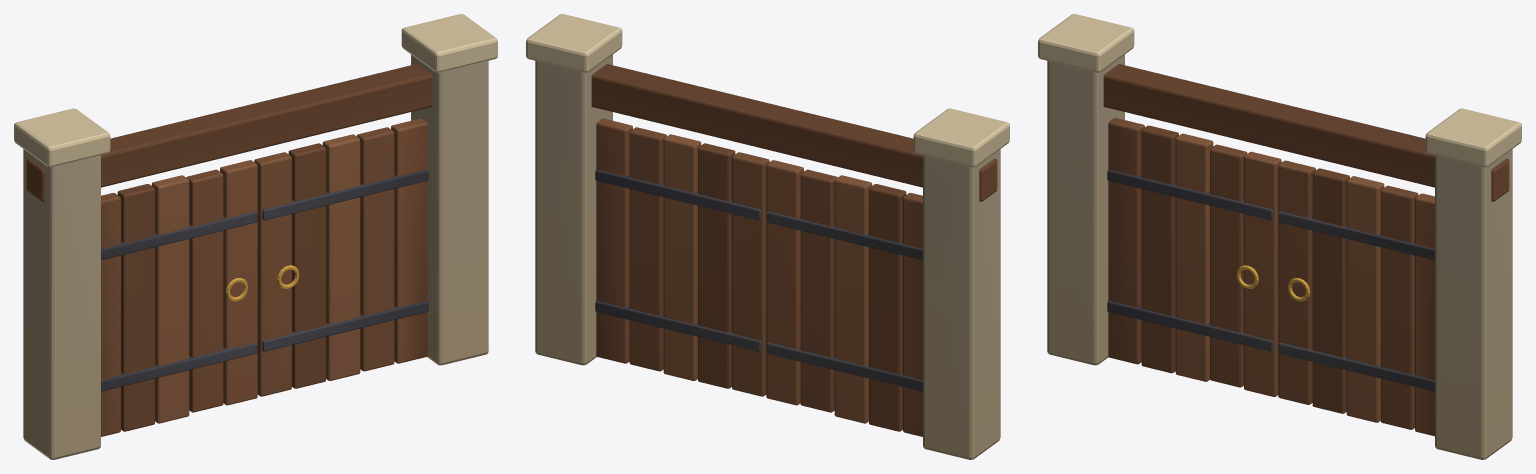
Rendered from porton-CCopBkBz.glb.
The picture shows the model from 3 angles, left to right: view 1: azimuth 30°, elevation 25°; view 2: azimuth 150°, elevation 25°; view 3: azimuth 330°, elevation 25°; orthographic projection.
Parts seen in each view (by area): view 1: Marco, Hoja derecha, Hoja izquierda; view 2: Marco, Hoja derecha, Hoja izquierda; view 3: Marco, Hoja izquierda, Hoja derecha.
Boxes of the visible parts, x1=… form: Marco: x1=14, y1=14, x2=497, y2=459; Hoja derecha: x1=254, y1=118, x2=428, y2=396; Hoja izquierda: x1=101, y1=160, x2=257, y2=436; Marco: x1=526, y1=14, x2=1009, y2=459; Hoja derecha: x1=595, y1=118, x2=769, y2=396; Hoja izquierda: x1=766, y1=160, x2=922, y2=436; Marco: x1=1038, y1=14, x2=1521, y2=459; Hoja izquierda: x1=1107, y1=117, x2=1281, y2=396; Hoja derecha: x1=1278, y1=160, x2=1434, y2=436.
Size of the model in its own units: 7.9 by 5.33 by 1.1.
